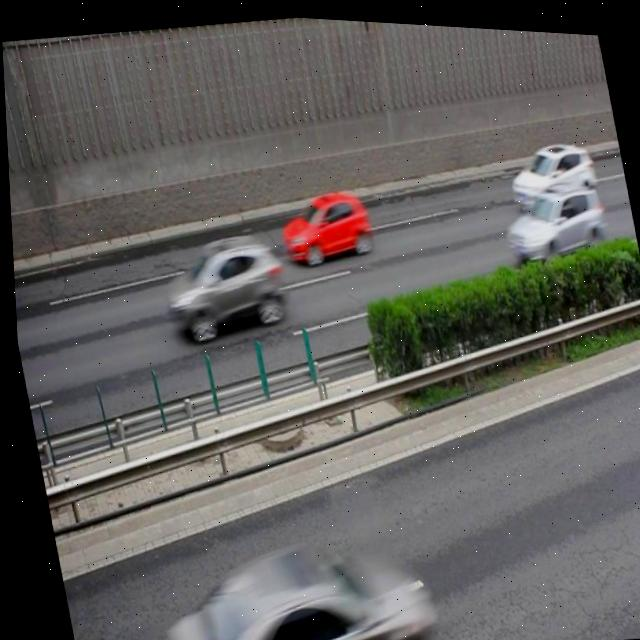car: (145, 518, 428, 640), (155, 226, 288, 349), (487, 169, 608, 266), (271, 181, 374, 267), (501, 131, 601, 213)
